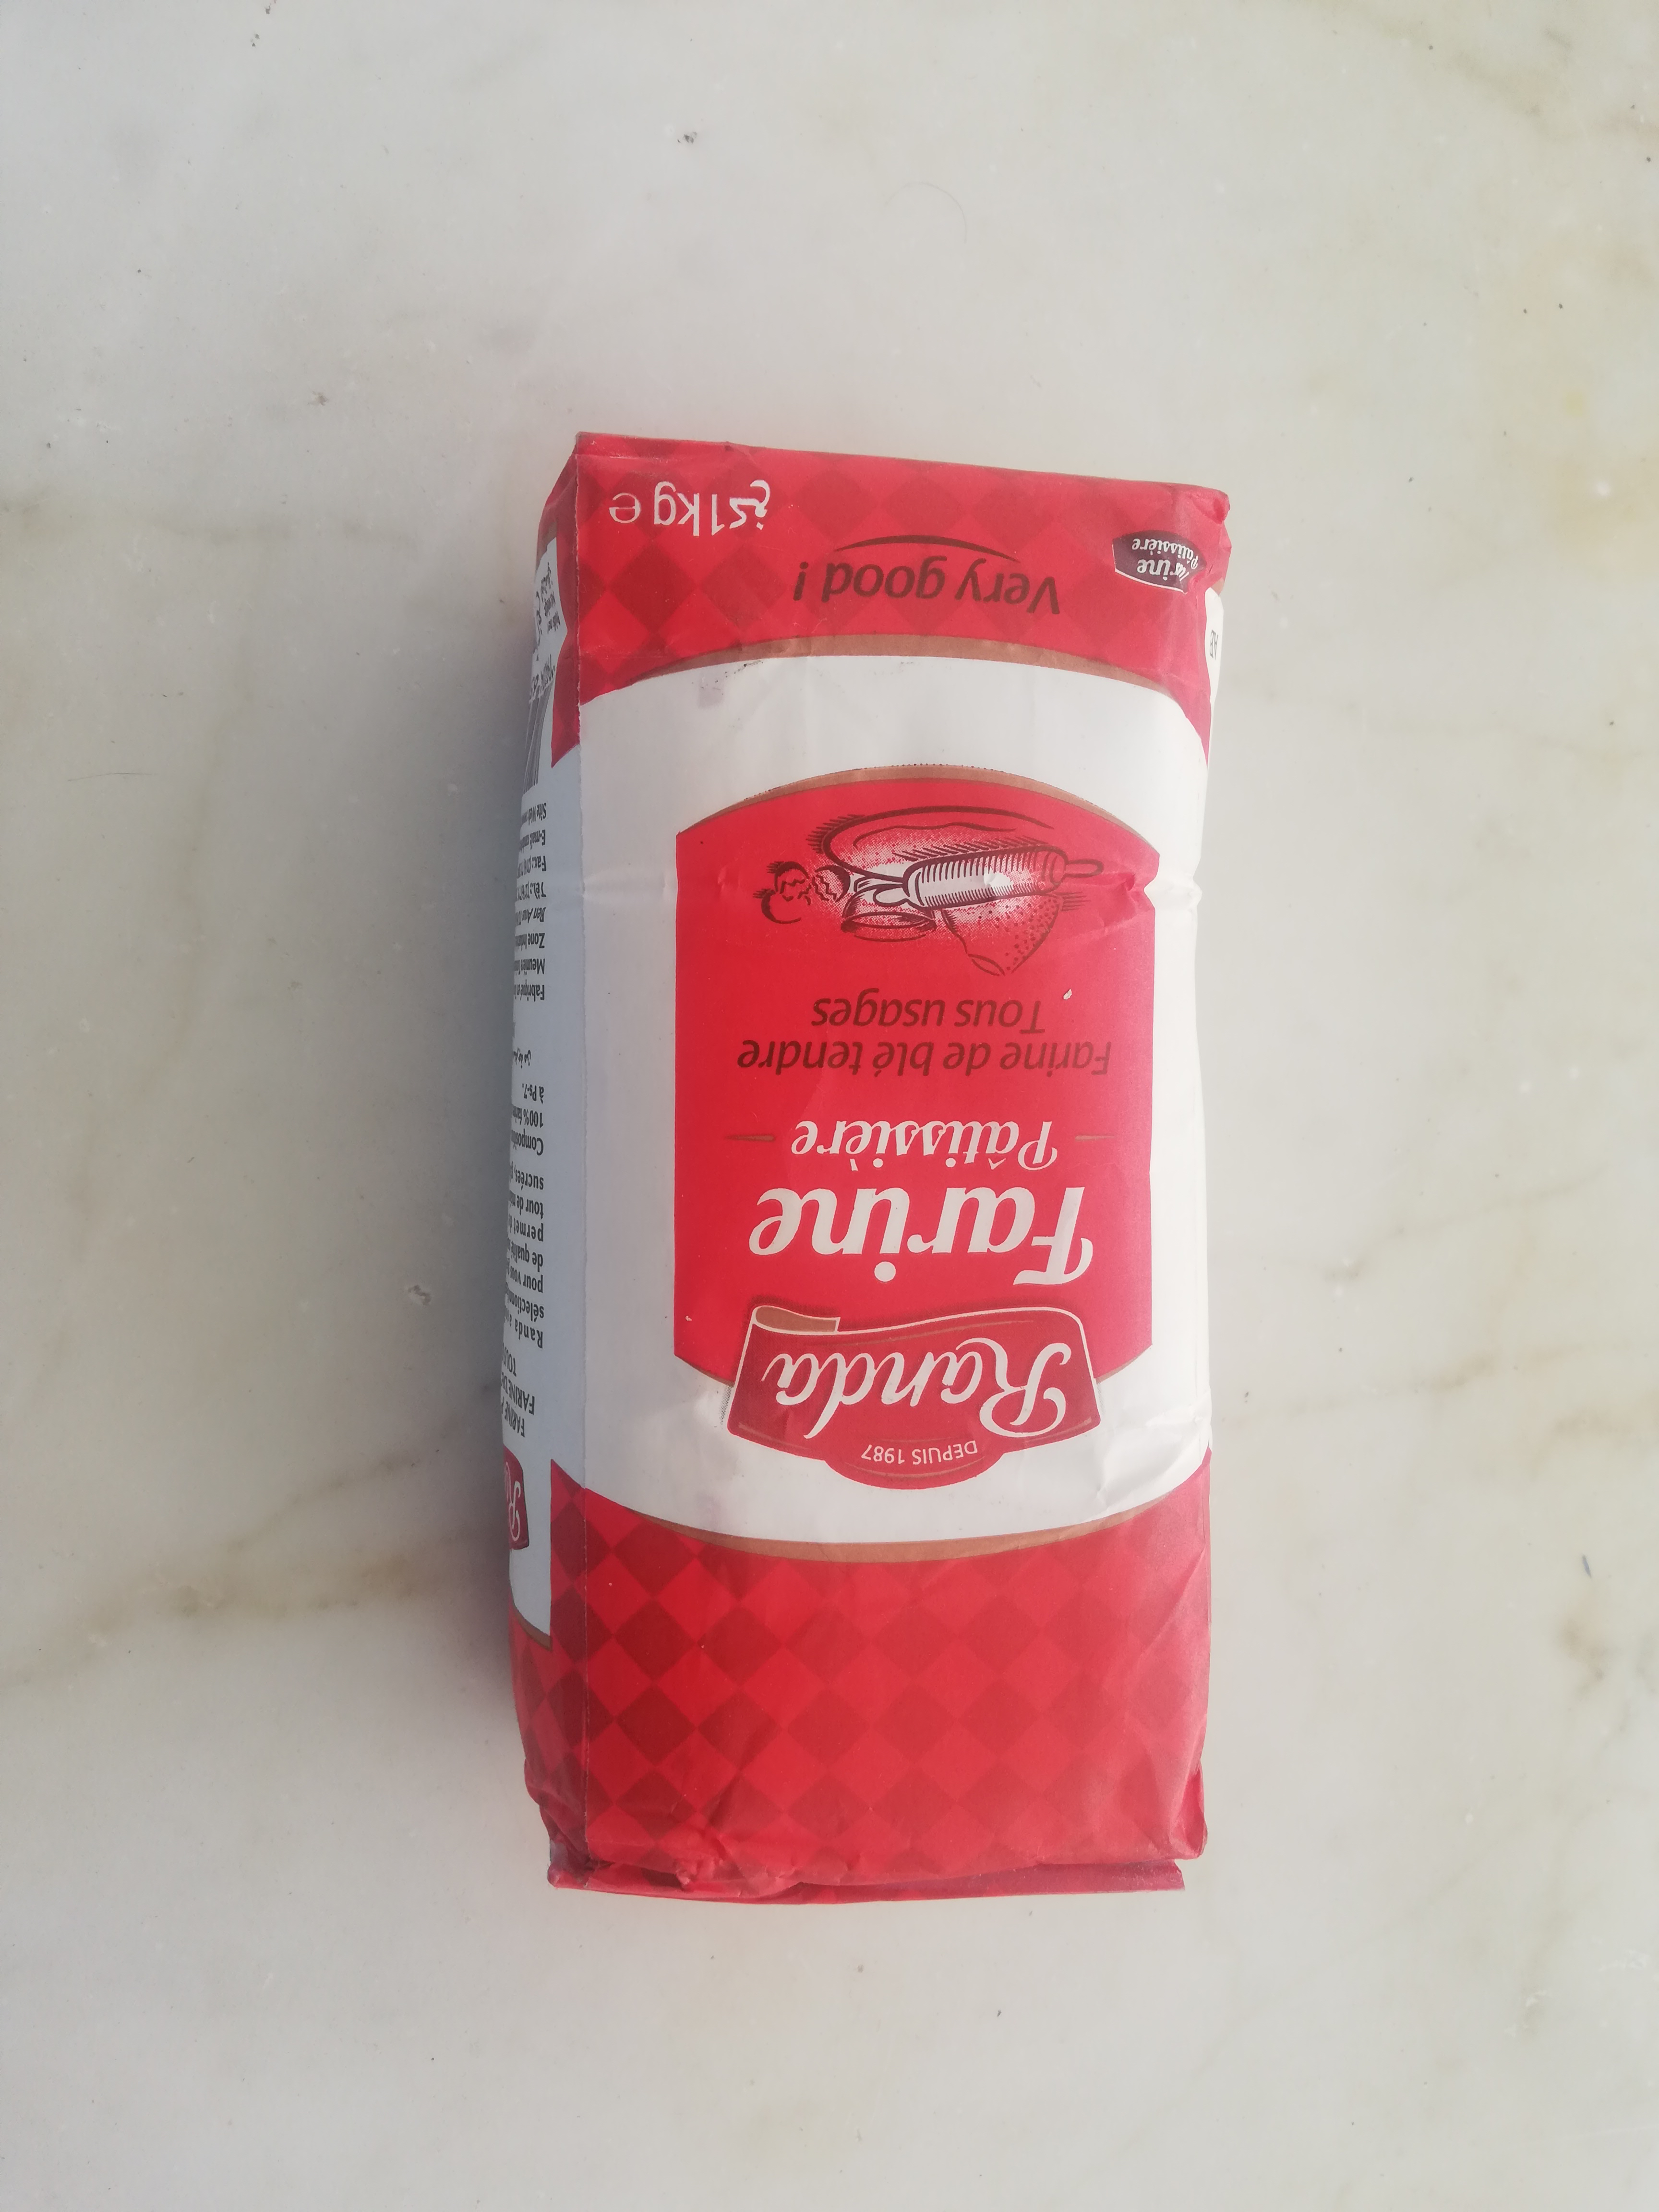Farine Randa: (504, 434, 1234, 1909)
